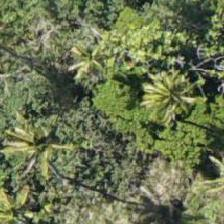coconut_tree: (124, 52, 214, 142), (0, 99, 87, 189), (0, 165, 55, 223)
